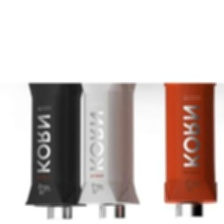carton: (78, 79, 150, 221), (18, 80, 86, 222), (159, 79, 220, 218)
